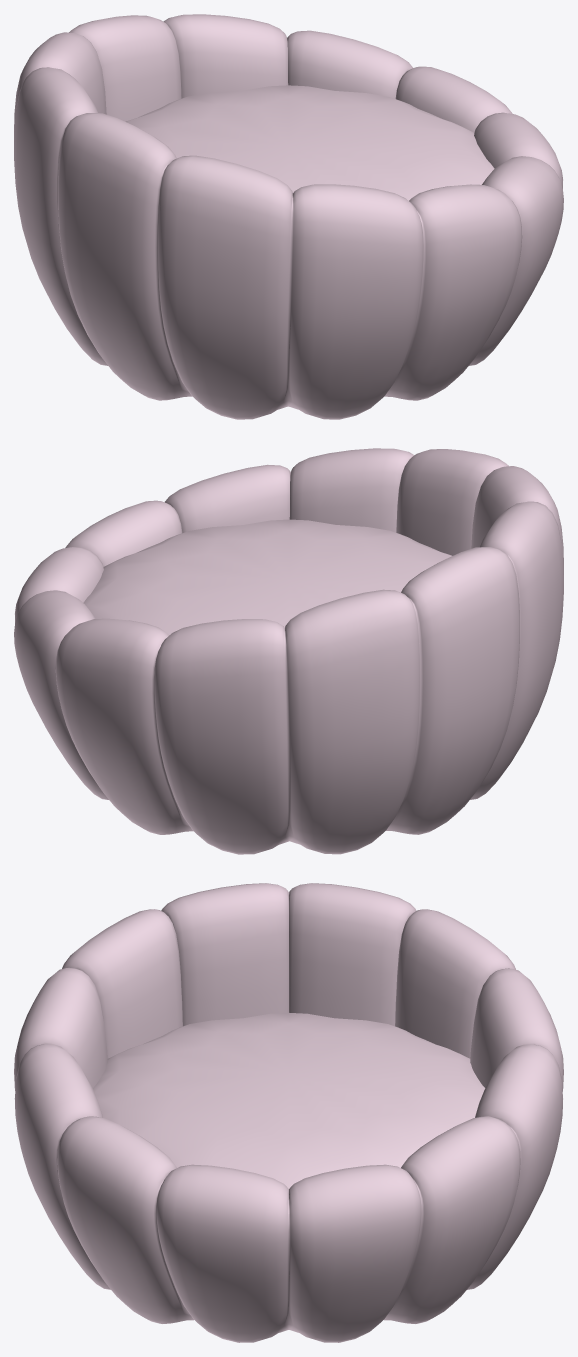
The model's file is sofa.glb.
3 views of the same model, one above another, from view 1: azimuth 30°, elevation 25°; view 2: azimuth 150°, elevation 25°; view 3: azimuth 270°, elevation 25° (orthographic).
Visible parts, largest first — view 1: Sphere001; view 2: Sphere001; view 3: Sphere001.
Part boxes in pixels (x1=…): Sphere001: x1=14, y1=14, x2=563, y2=419; Sphere001: x1=14, y1=448, x2=563, y2=854; Sphere001: x1=14, y1=883, x2=563, y2=1342.
Bounding box in the file's own units: 0.093 × 0.0536 × 0.0948.
